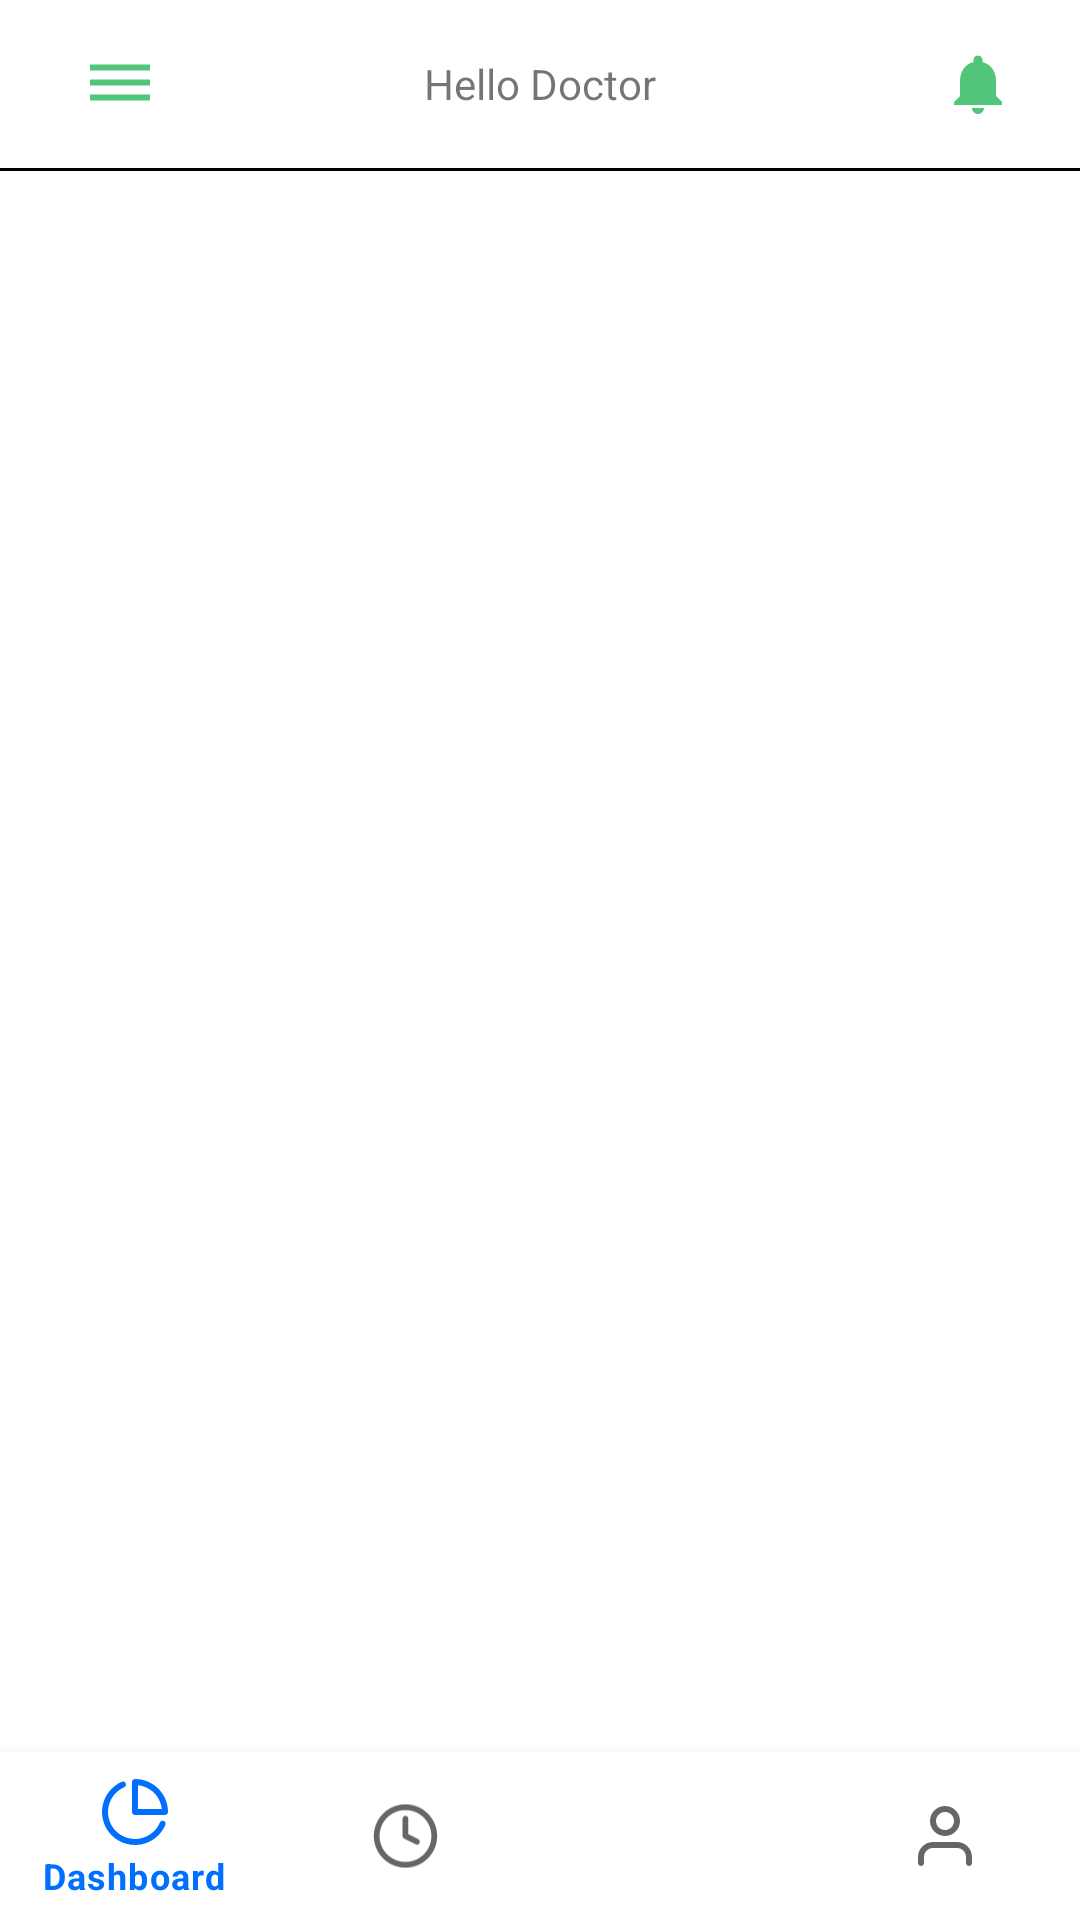

Named icons in this screenshot (1080w x 1920h) and their bounding boxes, (x1, y1, x2, y2):
drawer: (90, 64, 150, 101)
noti: (954, 55, 1002, 114)
